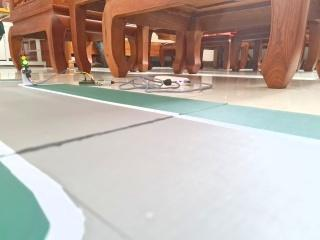green: (17, 46, 32, 71)
